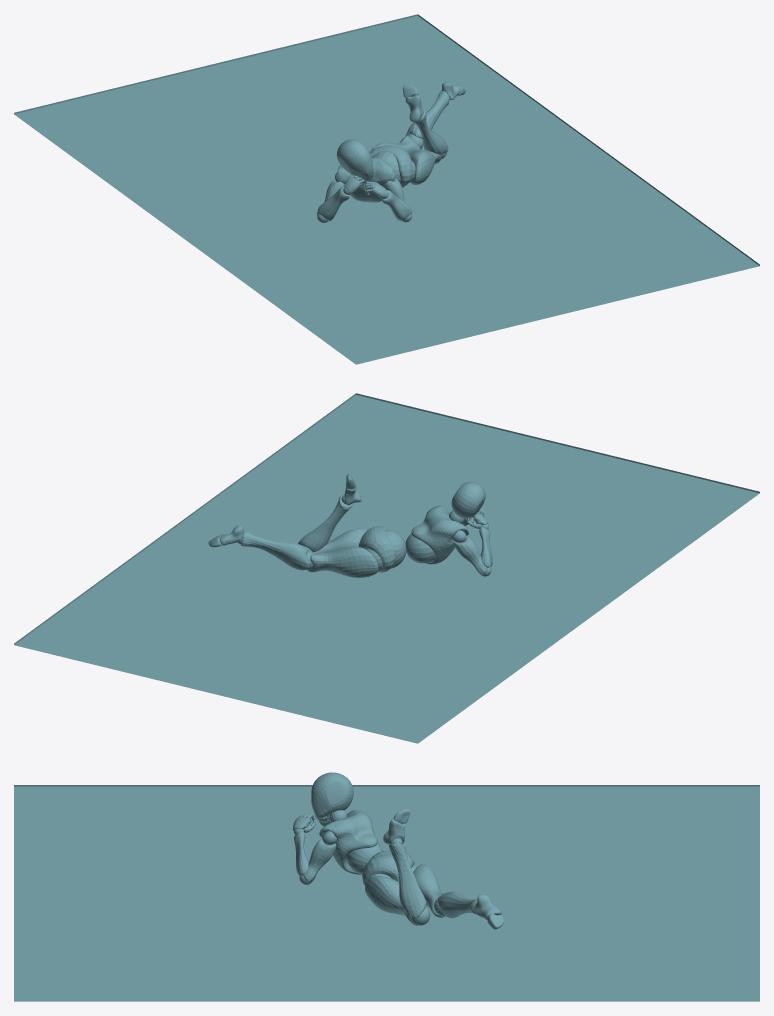
The model's file is prone-glider.glb.
3 views of the same model, one above another, from view 1: azimuth 30°, elevation 25°; view 2: azimuth 150°, elevation 25°; view 3: azimuth 270°, elevation 25° (orthographic). The views are drawn at different scales.
Parts seen in each view (by area): view 1: xier120.prone-glider.mesh.001, xier120.prone-glider.mesh.000, xier120.prone-glider.mesh.002; view 2: xier120.prone-glider.mesh.001, xier120.prone-glider.mesh.000, xier120.prone-glider.mesh.002; view 3: xier120.prone-glider.mesh.001, xier120.prone-glider.mesh.000, xier120.prone-glider.mesh.002.
Part boxes in pixels (left/top/right/bottom): xier120.prone-glider.mesh.001: left=14, top=14, right=759, bottom=364; xier120.prone-glider.mesh.000: left=317, top=82, right=465, bottom=221; xier120.prone-glider.mesh.002: left=317, top=86, right=460, bottom=222; xier120.prone-glider.mesh.001: left=14, top=393, right=759, bottom=743; xier120.prone-glider.mesh.000: left=208, top=474, right=492, bottom=577; xier120.prone-glider.mesh.002: left=218, top=484, right=491, bottom=576; xier120.prone-glider.mesh.001: left=14, top=785, right=759, bottom=1001; xier120.prone-glider.mesh.000: left=293, top=772, right=504, bottom=929; xier120.prone-glider.mesh.002: left=294, top=810, right=494, bottom=925.
Size of the model in its own units: 2.96 by 0.6469 by 4.34.
